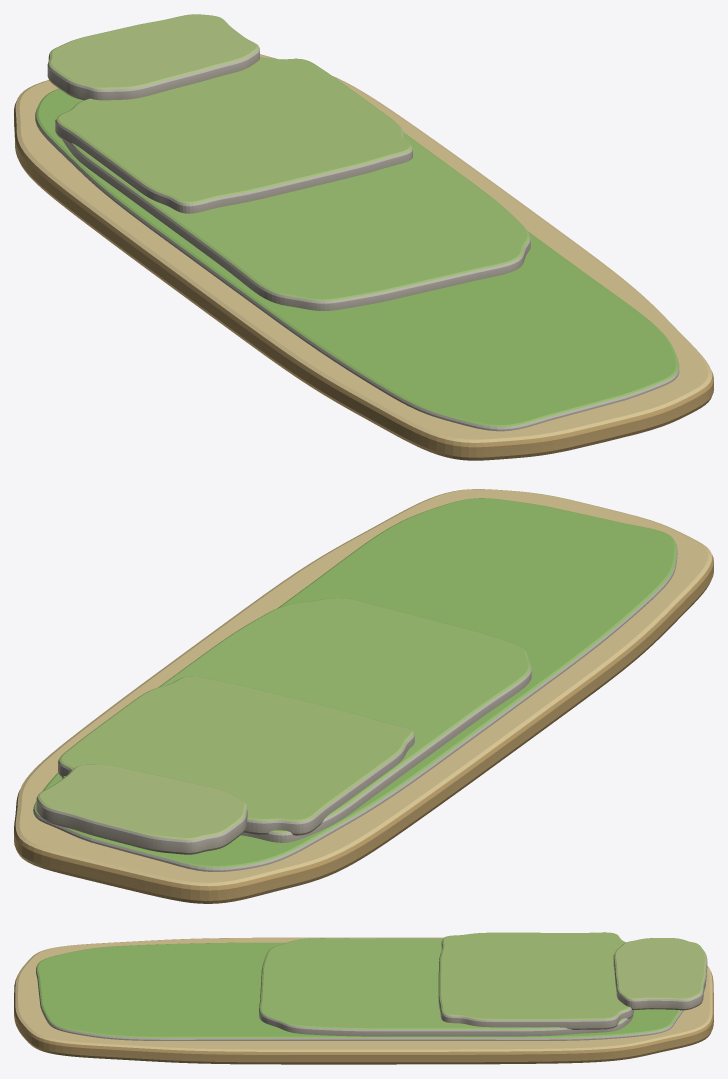
File: terrain.glb
3 renders of one model, top to bottom at view 1: azimuth 30°, elevation 25°; view 2: azimuth 150°, elevation 25°; view 3: azimuth 270°, elevation 25°, orthographic. The views are drawn at different scales.
Parts seen in each view (by area): view 1: english_terrain; view 2: english_terrain; view 3: english_terrain.
Boxes of the visible parts, box(x1,y1,x2,y2) form: english_terrain: box(14, 14, 713, 460); english_terrain: box(14, 489, 713, 903); english_terrain: box(14, 932, 713, 1064).
Bounding box in the file's own units: 40.2 × 6.65 × 103.
